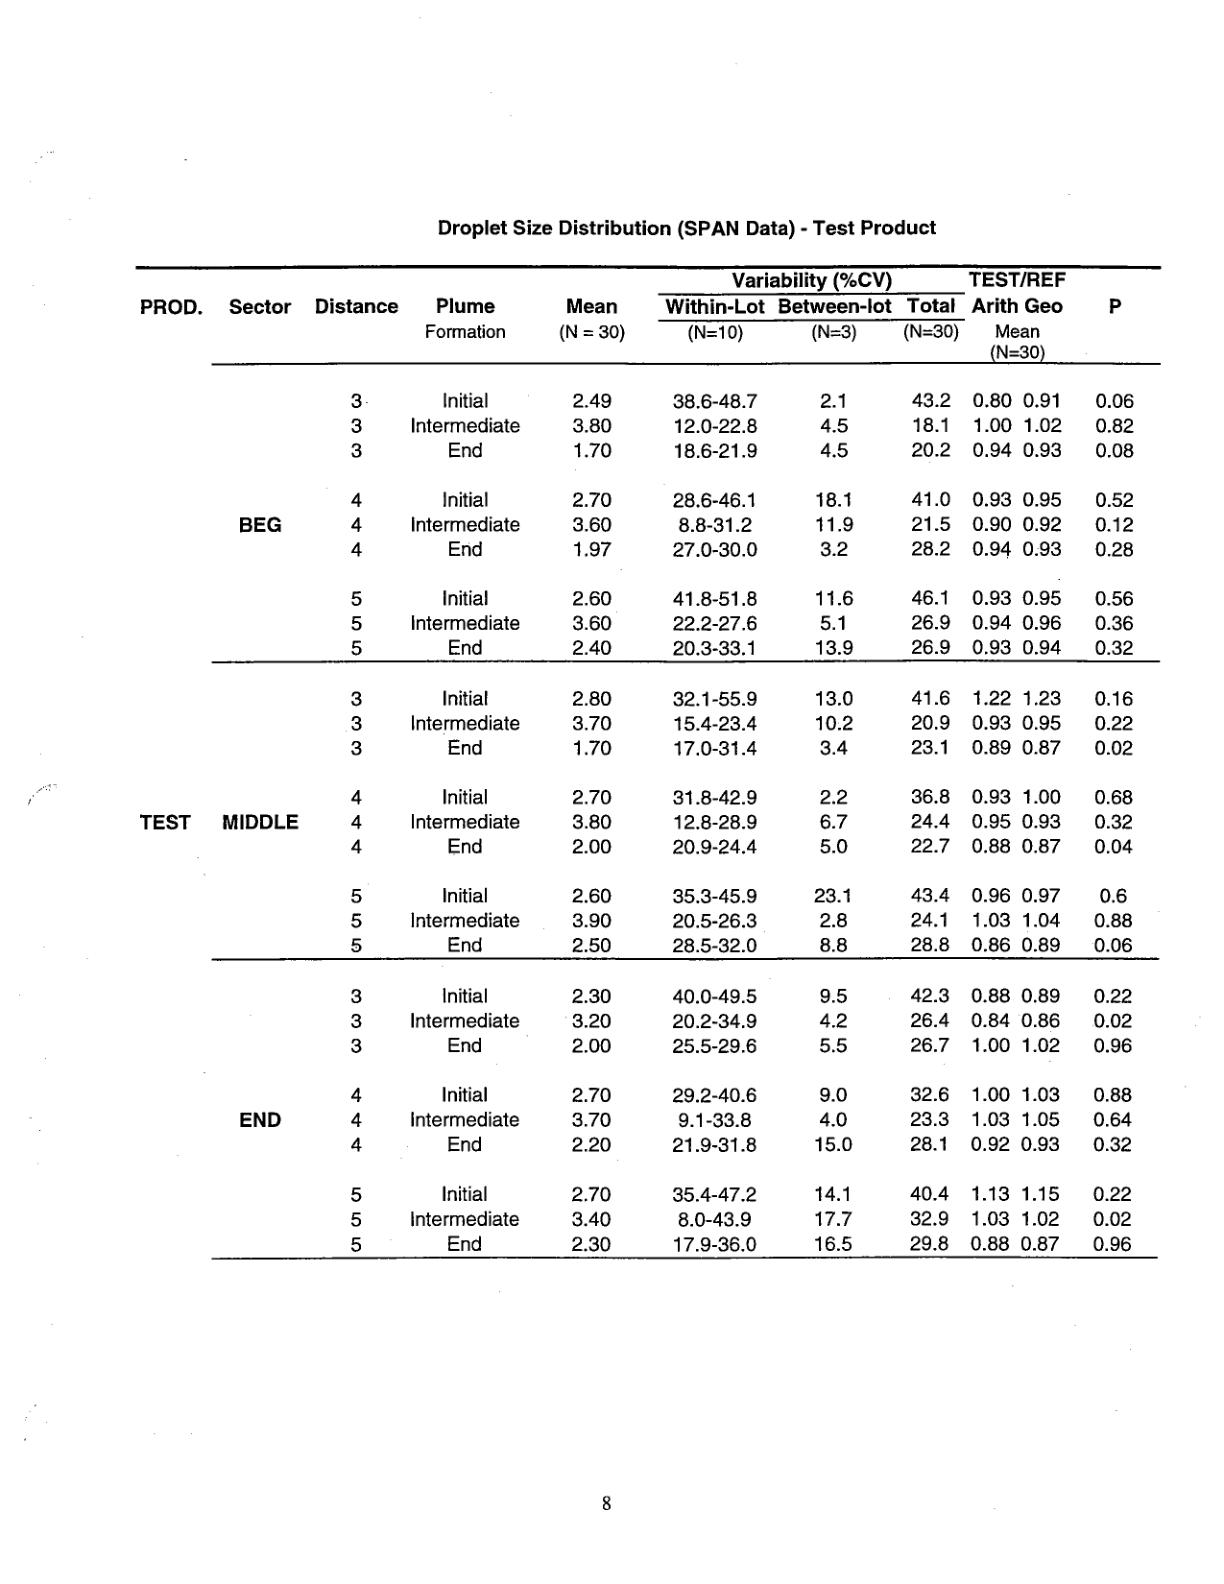partial_lined_merged_cells: (129, 264, 1165, 1264)
